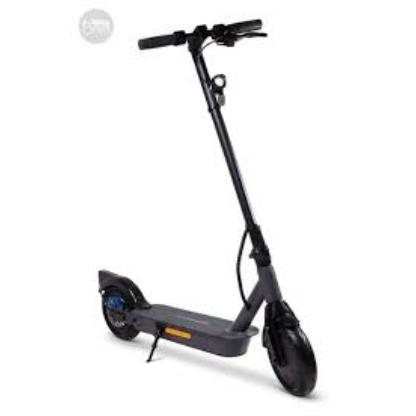bike: (97, 18, 319, 398)
